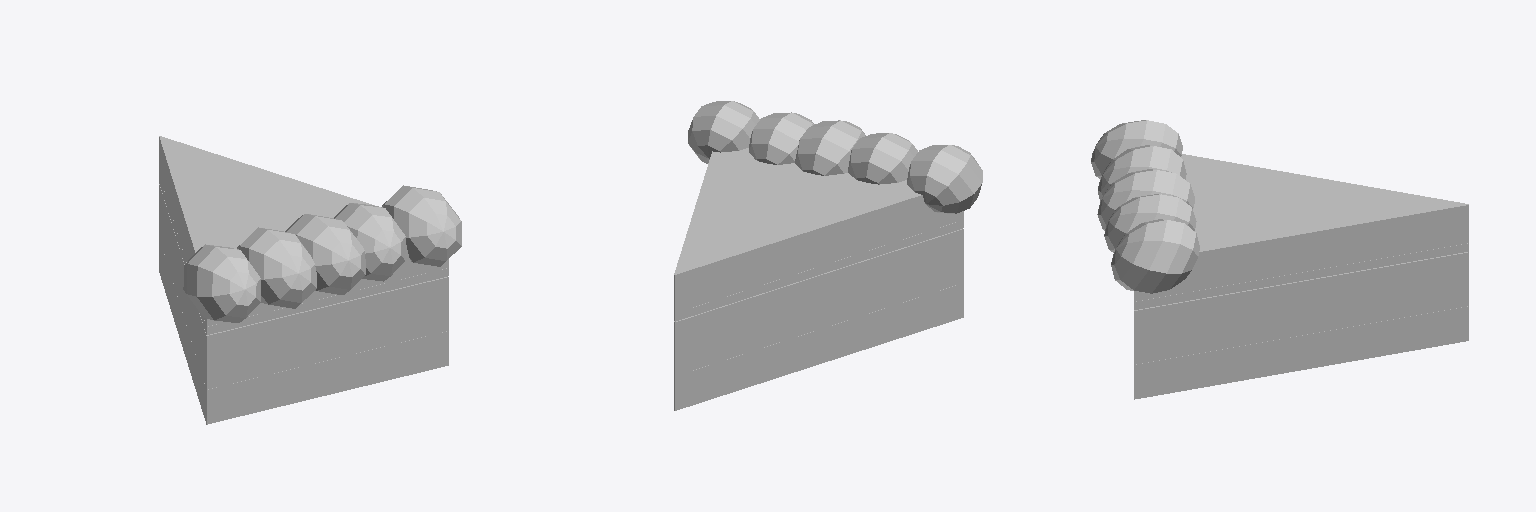
File: CAKE (1).obj
The picture shows the model from 3 angles: view 1: azimuth 30°, elevation 25°; view 2: azimuth 150°, elevation 25°; view 3: azimuth 270°, elevation 25°; orthographic projection.
Parts seen in each view (by area): view 1: group16_pasted__group12_pasted__pasted__pSphere4; view 2: group16_pasted__group12_pasted__pasted__pSphere4; view 3: group16_pasted__group12_pasted__pasted__pSphere4.
Part boxes in pixels (bbox=[...]): group16_pasted__group12_pasted__pasted__pSphere4: bbox=[159, 136, 461, 424]; group16_pasted__group12_pasted__pasted__pSphere4: bbox=[674, 101, 982, 410]; group16_pasted__group12_pasted__pasted__pSphere4: bbox=[1091, 120, 1468, 399].
Size of the model in its own units: 0.7398 by 0.4376 by 0.8799.